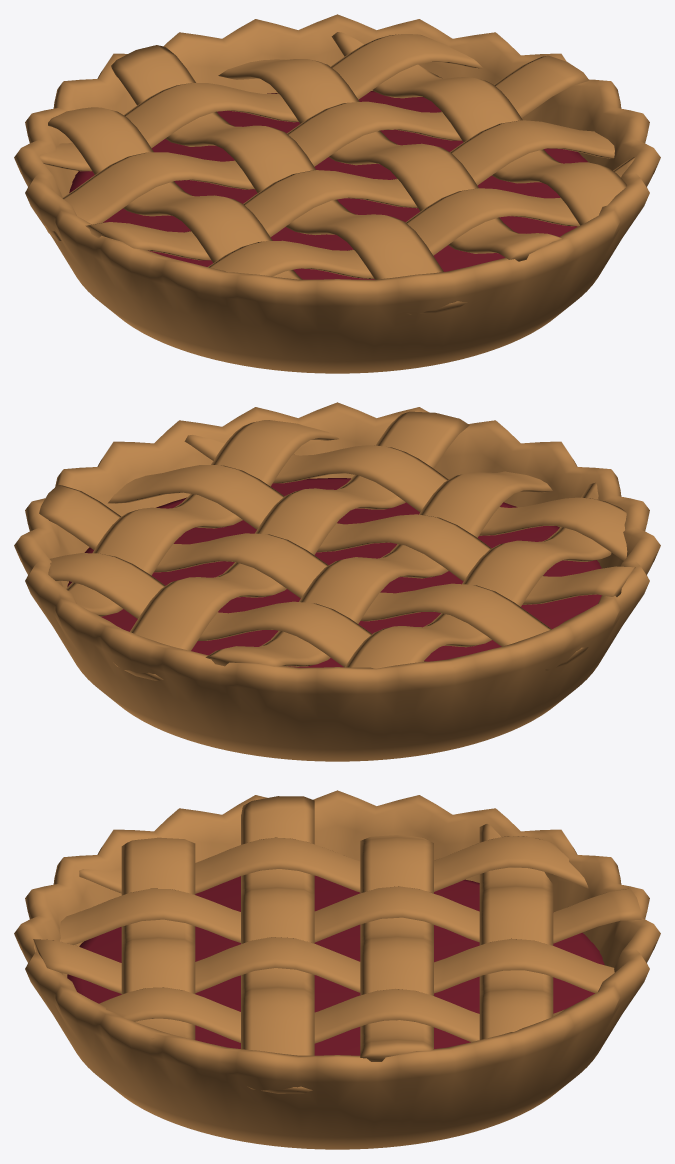
3 views of the same model, one above another, from view 1: azimuth 30°, elevation 25°; view 2: azimuth 150°, elevation 25°; view 3: azimuth 270°, elevation 25° (orthographic).
Parts seen in each view (by area): view 1: Complete crimped pastry shell, Woven pastry ribbon 0 2, Woven pastry ribbon 1 1, Woven pastry ribbon 0 1, Filling inside pastry shell, Woven pastry ribbon 1 2, Woven pastry ribbon 0 3, Woven pastry ribbon 1 3, Woven pastry ribbon 0 0, Woven pastry ribbon 1 0; view 2: Complete crimped pastry shell, Woven pastry ribbon 1 2, Woven pastry ribbon 0 2, Woven pastry ribbon 0 1, Filling inside pastry shell, Woven pastry ribbon 1 1, Woven pastry ribbon 0 0, Woven pastry ribbon 1 3, Woven pastry ribbon 1 0, Woven pastry ribbon 0 3; view 3: Complete crimped pastry shell, Woven pastry ribbon 0 1, Woven pastry ribbon 1 1, Filling inside pastry shell, Woven pastry ribbon 1 2, Woven pastry ribbon 0 2, Woven pastry ribbon 1 0, Woven pastry ribbon 0 3, Woven pastry ribbon 0 0, Woven pastry ribbon 1 3.
Part boxes in pixels (x1,y1,x2,y2): Complete crimped pastry shell: (14,14,660,373); Woven pastry ribbon 0 2: (43,55,589,241); Woven pastry ribbon 1 1: (111,45,467,314); Woven pastry ribbon 0 1: (85,120,614,260); Filling inside pastry shell: (69,91,587,279); Woven pastry ribbon 1 2: (218,59,563,261); Woven pastry ribbon 0 3: (39,34,482,171); Woven pastry ribbon 1 3: (331,32,626,225); Woven pastry ribbon 0 0: (207,157,639,278); Woven pastry ribbon 1 0: (48,107,302,289); Complete crimped pastry shell: (14,402,660,761); Woven pastry ribbon 1 2: (113,411,469,680); Woven pastry ribbon 0 2: (39,485,588,670); Woven pastry ribbon 0 1: (108,465,635,604); Filling inside pastry shell: (67,478,601,667); Woven pastry ribbon 1 1: (205,471,552,666); Woven pastry ribbon 0 0: (184,435,627,560); Woven pastry ribbon 1 3: (66,420,338,616); Woven pastry ribbon 1 0: (345,482,611,668); Woven pastry ribbon 0 3: (48,553,455,667); Complete crimped pastry shell: (14,790,660,1149); Woven pastry ribbon 0 1: (241,796,314,1093); Woven pastry ribbon 1 1: (59,886,641,944); Filling inside pastry shell: (67,875,604,1055); Woven pastry ribbon 1 2: (33,937,630,1001); Woven pastry ribbon 0 2: (360,835,433,1061); Woven pastry ribbon 1 0: (79,836,588,893); Woven pastry ribbon 0 3: (479,824,553,1039); Woven pastry ribbon 0 0: (121,837,195,1039); Woven pastry ribbon 1 3: (99,987,564,1043).
Size of the model in its own units: 0.1844 by 0.0413 by 0.1844.
